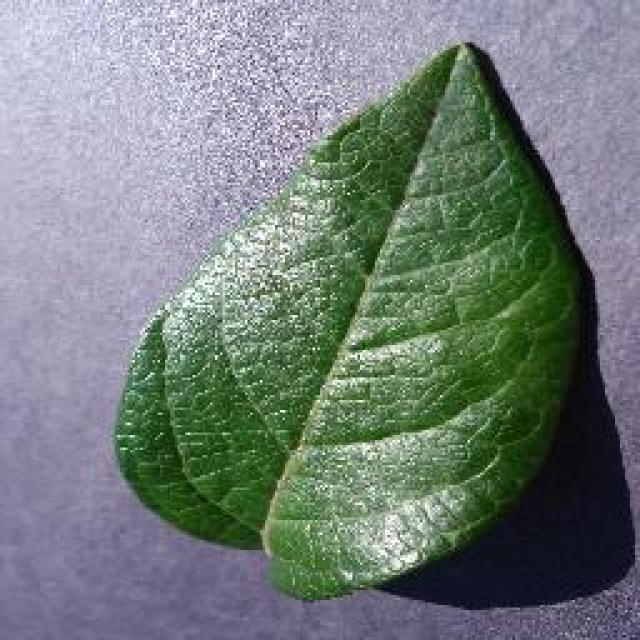Blu_healthy: (187, 151, 558, 539)
